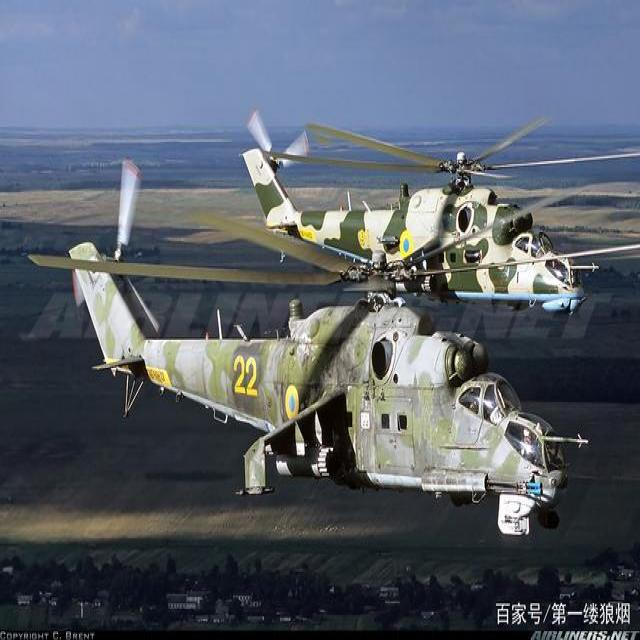MIL_HELO: (34, 188, 640, 546), (231, 97, 634, 323)
